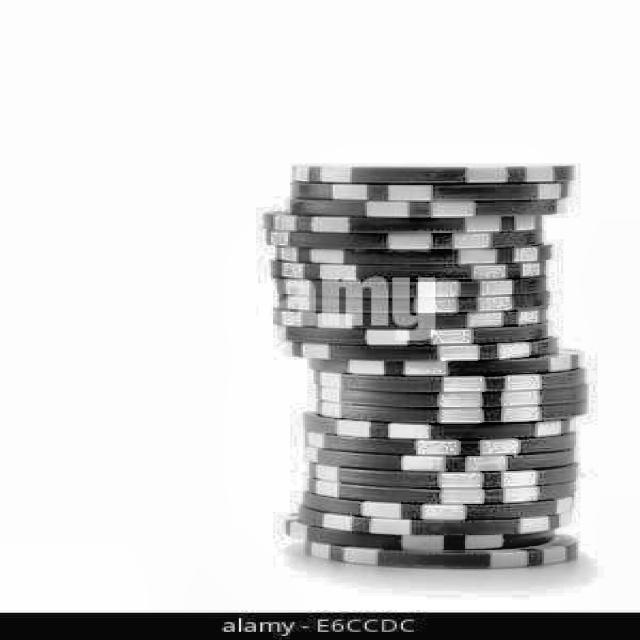Chip: (237, 154, 618, 584)
